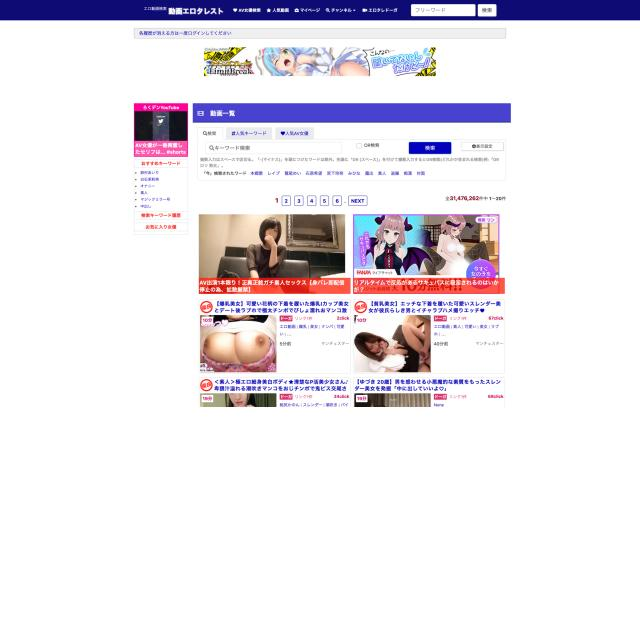CheckBox: (408, 141, 452, 155), (460, 141, 504, 152), (477, 3, 498, 17), (354, 141, 363, 149)
CheckedTextView: (204, 142, 343, 156), (411, 3, 476, 17)
ImageView: (204, 45, 436, 77), (133, 102, 188, 157)
copy: (199, 214, 350, 278), (354, 215, 499, 278), (200, 314, 277, 372), (354, 314, 430, 372)
date picker: (144, 4, 225, 17)
decoration: (135, 170, 183, 210), (203, 170, 429, 178)
dropdown: (273, 194, 370, 208)
icon: (197, 126, 315, 140)
